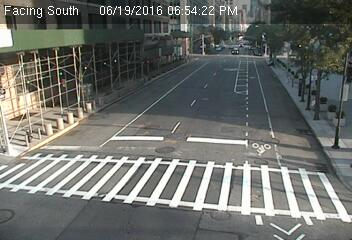neg: (23, 124, 49, 159), (89, 168, 112, 198), (104, 109, 126, 138), (257, 114, 278, 142), (144, 88, 165, 115), (226, 176, 246, 203), (151, 140, 171, 166), (231, 139, 250, 165), (280, 173, 299, 199), (186, 188, 205, 214), (187, 68, 205, 91), (241, 70, 258, 92), (306, 82, 322, 104), (84, 64, 100, 86), (61, 95, 77, 117), (219, 36, 233, 54)
